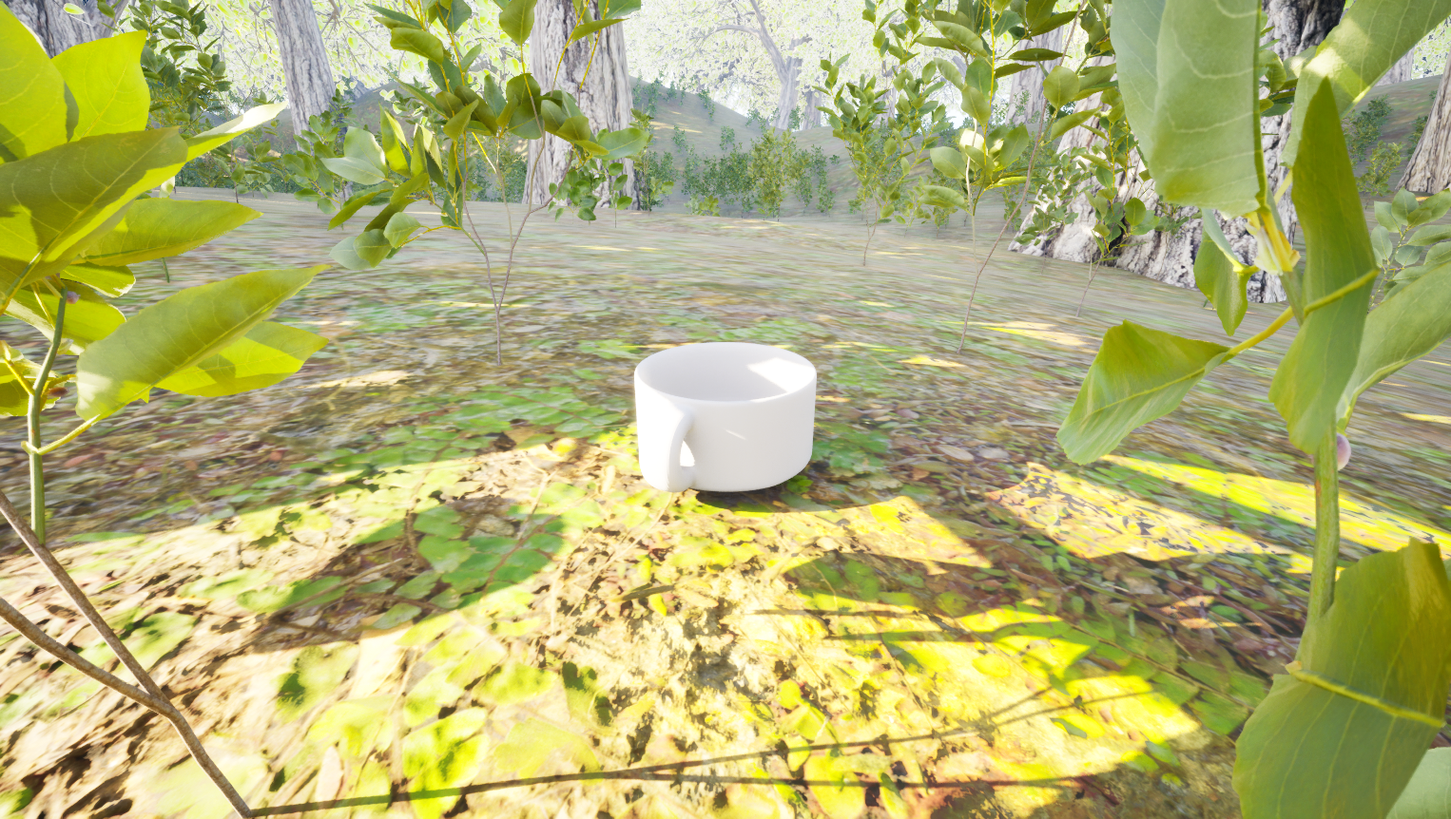Teacup: (583, 333, 856, 522)
